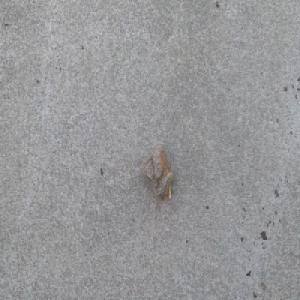Rock: (138, 140, 173, 201)
